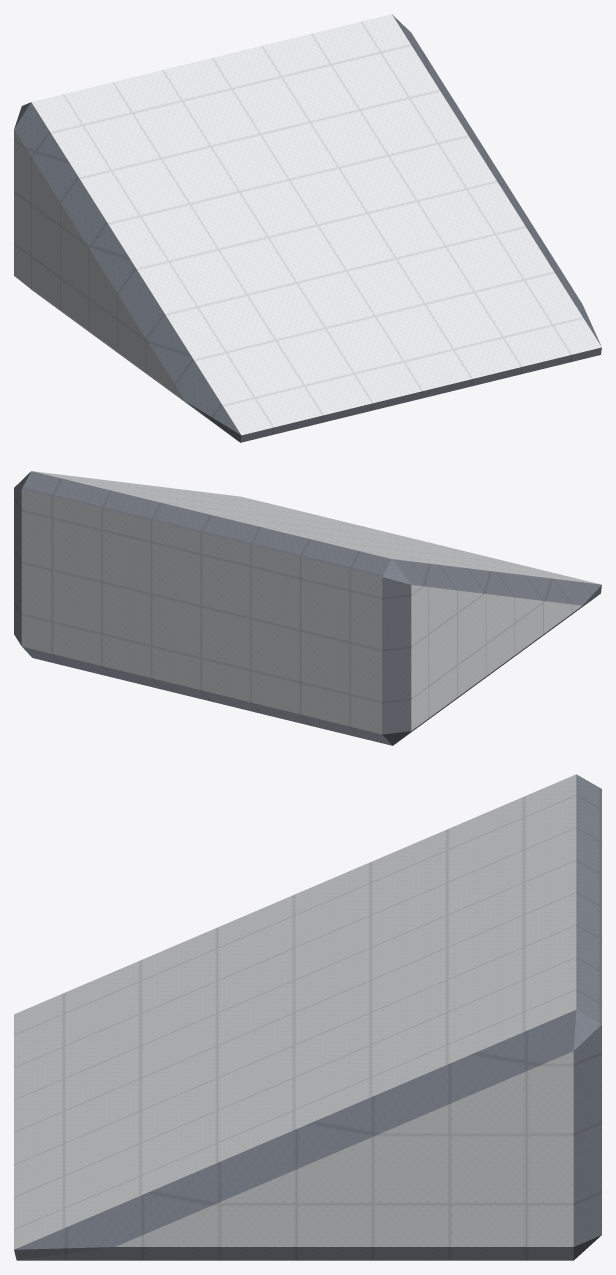
Rendered from R4B_HalfWedge_LOD1.glb.
3 renders of one model, top to bottom at view 1: azimuth 30°, elevation 25°; view 2: azimuth 150°, elevation 25°; view 3: azimuth 270°, elevation 25°, orthographic. The views are drawn at different scales.
Visible parts, largest first — view 1: R4B_HalfWedge_LOD1; view 2: R4B_HalfWedge_LOD1; view 3: R4B_HalfWedge_LOD1.
Boxes of the visible parts, <box> form: R4B_HalfWedge_LOD1: <box>14,14,601,442</box>; R4B_HalfWedge_LOD1: <box>14,471,601,745</box>; R4B_HalfWedge_LOD1: <box>14,774,601,1260</box>.
Bounding box in the file's own units: 0.52 × 0.2348 × 0.4983.
2 materials, 2 textured.
